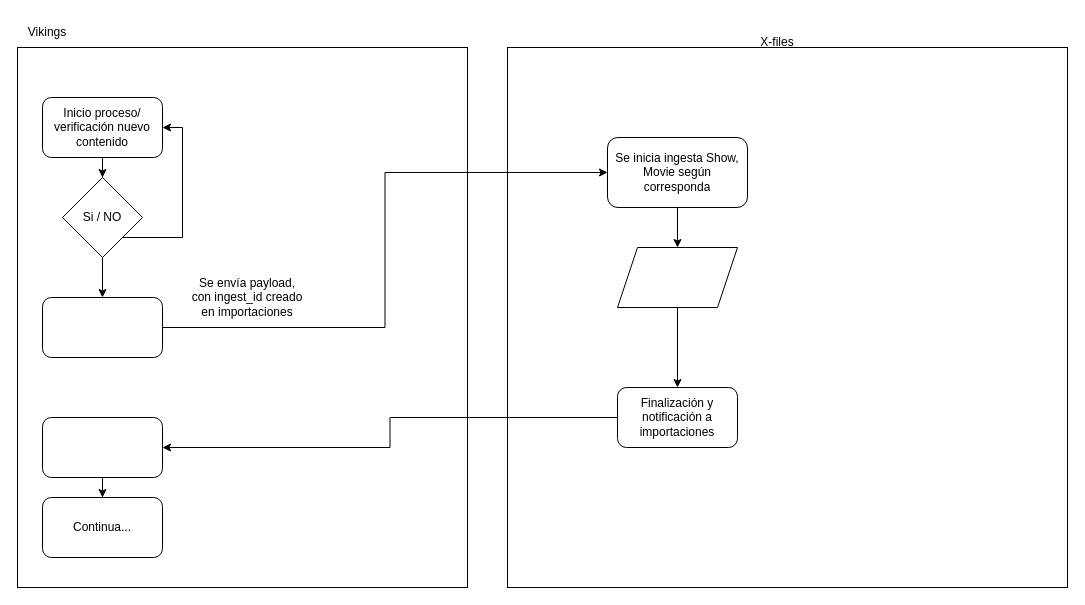
This 1085x605 diagram has some shape labels left out. Here are the shapes that lost their labels. From the top down, the centre of each, then its label:
At point (677, 277): "Proceso de transcoding".
At point (102, 327): "Leé metadata, assets y decide como realizar ingesta".
At point (102, 447): "Proceso de creación de producto".
